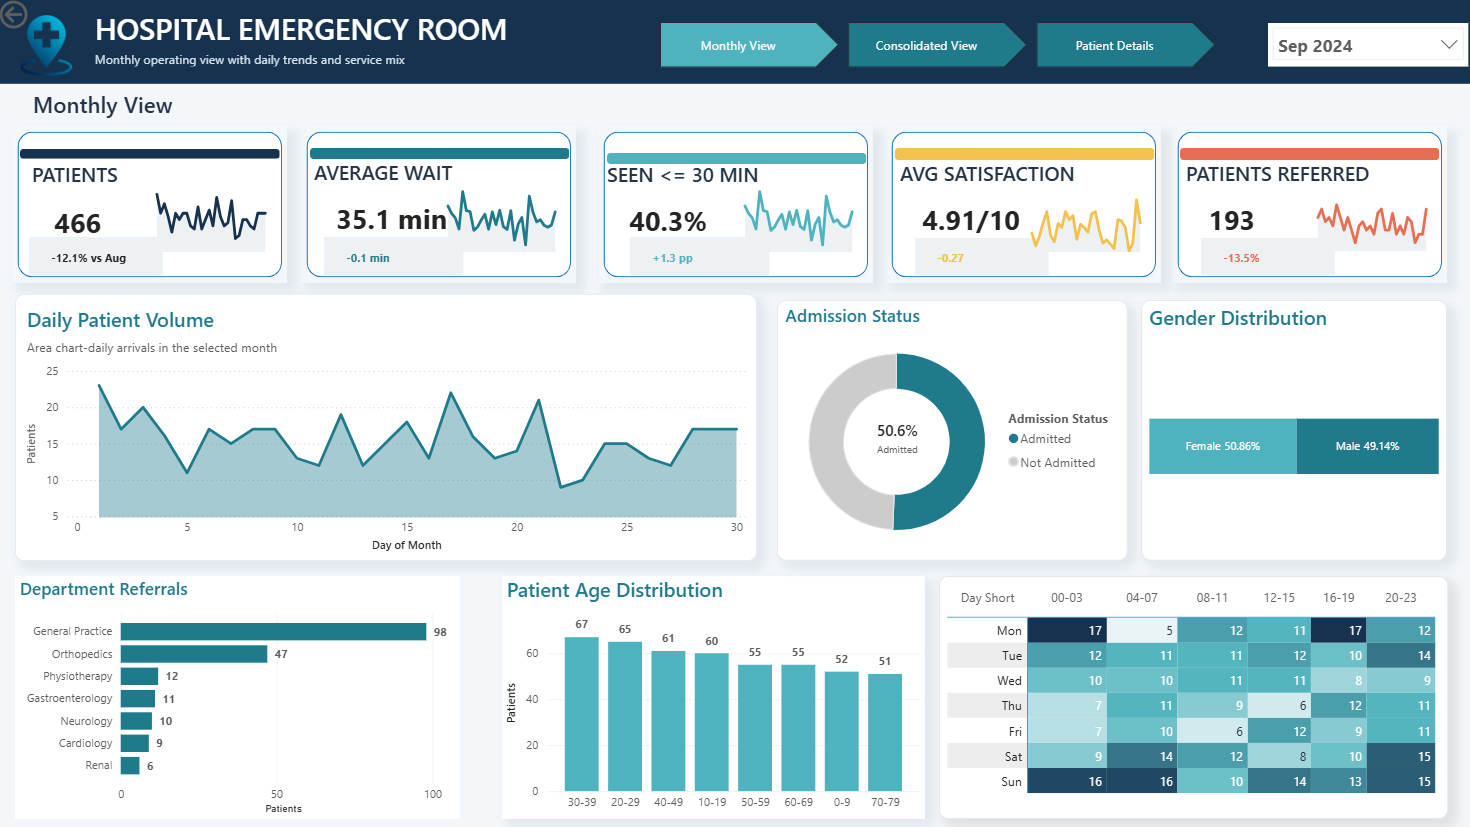

This screenshot's page, from the dashboard's own definition file:
{"tool":"powerbi","page":{"name":"Monthly View","canvas":[1600,900],"ordinal":0},"visuals":[{"type":"shape","box":[0,0,1600,94.8],"z":0},{"type":"shape","box":[18.3,140,297.2,169.2],"z":0,"group":"g1"},{"type":"shape","box":[329.8,140,297.2,169.2],"z":0,"group":"g2"},{"type":"shape","box":[650.4,140,297.2,169.2],"z":0,"group":"g3"},{"type":"shape","box":[960.3,140,297.2,169.2],"z":0,"group":"g4"},{"type":"donutChart","title":"Admission Status","fields":{"Category":["ER Visits.Admission Status"],"Y":["ER Visits.Total Patients"]},"box":[843.5,327.6,378.3,280.8],"z":0,"group":"g5"},{"type":"image","box":[20.7,20.7,70.5,65.7],"z":1000},{"type":"cardVisual","title":"AVERAGE WAIT","fields":{"Data":["ER Visits.Average Wait Time (Min)"]},"box":[343.9,175.2,180.9,91.6],"z":1000,"group":"g2"},{"type":"cardVisual","title":"AVG SATISFACTION","fields":{"Data":["ER Visits.Average Satisfaction Score"]},"box":[975.6,176.4,217.3,92.8],"z":1000,"group":"g4"},{"type":"cardVisual","title":"PATIENTS","fields":{"Data":["ER Visits.Total Patients"]},"box":[39.4,177.6,126.9,95.2],"z":1000,"group":"g1"},{"type":"cardVisual","title":"SEEN <= 30 MIN","fields":{"Data":["ER Visits.Patients Within 30 Min %"]},"box":[659.8,177.6,196.2,89.3],"z":1000,"group":"g3"},{"type":"cardVisual","fields":{"Data":["ER Visits.Admission Rate"]},"box":[922.2,425.1,122.2,104.6],"z":1000,"group":"g5"},{"type":"textbox","box":[102.1,7.3,500.9,59.6],"z":2000},{"type":"cardVisual","fields":{"Data":["ER Visits.M20 Patients MoM Label"]},"box":[37.1,259.8,144.5,41.1],"z":2000,"group":"g1"},{"type":"cardVisual","fields":{"Data":["ER Visits.Average Wait MoM Change"]},"box":[354.5,259.8,150.4,41.1],"z":2000,"group":"g2"},{"type":"cardVisual","fields":{"Data":["ER Visits.Timely MoM Change (pp)"]},"box":[684.5,259.8,150.4,41.1],"z":2000,"group":"g3"},{"type":"cardVisual","fields":{"Data":["ER Visits.Satisfaction MoM Change"]},"box":[992,261,144.5,39.9],"z":2000,"group":"g4"},{"type":"textbox","box":[102.1,53.5,500.9,26.7],"z":3000},{"type":"lineChart","fields":{"Category":["Date.Date.Variation.Date Hierarchy.Year"],"Y":["ER Visits.Total Patients"]},"box":[159.3,192.9,146.8,88.1],"z":3000,"group":"g1"},{"type":"lineChart","fields":{"Category":["Date.Date.Variation.Date Hierarchy.Year"],"Y":["ER Visits.Average Wait Time (Min)"]},"box":[473.1,192.9,145.7,88.1],"z":3000,"group":"g2"},{"type":"lineChart","fields":{"Category":["Date.Date.Variation.Date Hierarchy.Year"],"Y":["ER Visits.Average Wait Time (Min)"]},"box":[793.7,192.9,145.7,88.1],"z":3000,"group":"g3"},{"type":"lineChart","fields":{"Category":["Date.Date.Variation.Date Hierarchy.Year"],"Y":["ER Visits.Average Satisfaction Score"]},"box":[1102.4,192.9,146.8,88.1],"z":3000,"group":"g4"},{"type":"slicer","fields":{"Values":["Date.Month and Year"]},"box":[1372.1,28.9,215.8,47],"z":4000},{"type":"shape","box":[339.2,163.5,279.6,11.7],"z":4000,"group":"g2"},{"type":"shape","box":[969.7,163.5,279.6,12.9],"z":4000,"group":"g4"},{"type":"shape","box":[26.5,164.7,280,10.6],"z":4000,"group":"g1"},{"type":"shape","box":[659.8,169.4,279.6,11.7],"z":4000,"group":"g3"},{"type":"textbox","box":[35.2,95.2,249,48.2],"z":5000},{"type":"shape","box":[1268.7,140,297.2,169.2],"z":6000},{"type":"cardVisual","title":"PATIENTS REFERRED","fields":{"Data":["ER Visits.Referred Patients"]},"box":[1284,176.5,217.3,92.8],"z":7000},{"type":"cardVisual","fields":{"Data":["ER Visits.Referred MoM %"]},"box":[1300.4,261,144.5,39.9],"z":8000},{"type":"lineChart","fields":{"Category":["Date.Date.Variation.Date Hierarchy.Year"],"Y":["ER Visits.Referred Patients"]},"box":[1410.8,192.9,146.8,88.1],"z":9000},{"type":"shape","box":[1278.1,163.5,279.6,12.9],"z":10000},{"type":"group","id":"g1","title":"Group 1","box":[18.3,140,297.7,169.5],"z":11000},{"type":"group","id":"g2","title":"Group 2","box":[329.8,140,297.7,169.5],"z":12000},{"type":"group","id":"g3","title":"Group 3","box":[650.4,140,297.7,169.5],"z":13000},{"type":"group","id":"g4","title":"Group 4","box":[960.3,140,297.2,169.2],"z":14000},{"type":"areaChart","title":"Daily Patient Volume","fields":{"Category":["Date.Day of Month"],"Y":["ER Visits.Total Patients"]},"box":[21.1,321.7,800,287.8],"z":15000},{"type":"actionButton","box":[0,0,100,40],"z":16000},{"type":"hundredPercentStackedBarChart","title":"Gender Distribution","fields":{"Category":["ER Visits.Distribution Axis"],"Series":["ER Visits.Gender Label"],"Y":["ER Visits.Total Patients"]},"box":[1235.8,327.8,330.1,280.8],"z":17000},{"type":"clusteredBarChart","title":"Department Referrals","fields":{"Y":["ER Visits.Referred Patients"],"Category":["ER Visits.Department Referral"]},"box":[21.1,625,480.5,262],"z":18000},{"type":"clusteredColumnChart","title":"Patient Age Distribution","fields":{"Category":["ER Visits.Age Band"],"Y":["ER Visits.Total Patients"]},"box":[546.3,625,455.8,262],"z":19000},{"type":"group","id":"g5","title":"Group 5","box":[843.5,327.6,378.3,280.8],"z":20000},{"type":"pivotTable","fields":{"Rows":["Date.Day Short"],"Columns":["ER Visits.Time Band"],"Values":["ER Visits.Total Patients"]},"box":[1017.3,625,548.6,262],"z":21000},{"type":"pageNavigator","box":[717.4,27.7,600.5,49.4],"z":22000}]}

Visuals, with their boxes in screenshot pixels (x1, y1, x2, y2), scaled from the page's 1600x900 canvas onto the 1470x827 screenshot:
shape: (0, 0, 1469, 87)
shape: (17, 129, 290, 284)
shape: (303, 129, 576, 284)
shape: (598, 129, 871, 284)
shape: (882, 129, 1155, 284)
"Admission Status" donutChart: (775, 301, 1123, 559)
image: (19, 19, 84, 79)
"AVERAGE WAIT" cardVisual: (316, 161, 482, 245)
"AVG SATISFACTION" cardVisual: (896, 162, 1096, 247)
"PATIENTS" cardVisual: (36, 163, 153, 251)
"SEEN <= 30 MIN" cardVisual: (606, 163, 786, 245)
cardVisual - ER Visits.Admission Rate: (847, 391, 960, 487)
textbox: (94, 7, 554, 61)
cardVisual - ER Visits.M20 Patients MoM Label: (34, 239, 167, 276)
cardVisual - ER Visits.Average Wait MoM Change: (326, 239, 464, 276)
cardVisual - ER Visits.Timely MoM Change (pp): (629, 239, 767, 276)
cardVisual - ER Visits.Satisfaction MoM Change: (911, 240, 1044, 276)
textbox: (94, 49, 554, 74)
lineChart - Date.Date.Variation.Date Hierarchy.Year x ER Visits.Total Patients: (146, 177, 281, 258)
lineChart - Date.Date.Variation.Date Hierarchy.Year x ER Visits.Average Wait Time (Min): (435, 177, 569, 258)
lineChart - Date.Date.Variation.Date Hierarchy.Year x ER Visits.Average Wait Time (Min): (729, 177, 863, 258)
lineChart - Date.Date.Variation.Date Hierarchy.Year x ER Visits.Average Satisfaction Score: (1013, 177, 1148, 258)
slicer - Date.Month and Year: (1261, 27, 1459, 70)
shape: (312, 150, 569, 161)
shape: (891, 150, 1148, 162)
shape: (24, 151, 282, 161)
shape: (606, 156, 863, 166)
textbox: (32, 87, 261, 132)
shape: (1166, 129, 1439, 284)
"PATIENTS REFERRED" cardVisual: (1180, 162, 1379, 247)
cardVisual - ER Visits.Referred MoM %: (1195, 240, 1328, 276)
lineChart - Date.Date.Variation.Date Hierarchy.Year x ER Visits.Referred Patients: (1296, 177, 1431, 258)
shape: (1174, 150, 1431, 162)
"Group 1" group: (17, 129, 290, 284)
"Group 2" group: (303, 129, 577, 284)
"Group 3" group: (598, 129, 871, 284)
"Group 4" group: (882, 129, 1155, 284)
"Daily Patient Volume" areaChart: (19, 296, 754, 560)
actionButton: (0, 0, 92, 37)
"Gender Distribution" hundredPercentStackedBarChart: (1135, 301, 1439, 559)
"Department Referrals" clusteredBarChart: (19, 574, 461, 815)
"Patient Age Distribution" clusteredColumnChart: (502, 574, 921, 815)
"Group 5" group: (775, 301, 1123, 559)
pivotTable - Date.Day Short x ER Visits.Time Band: (935, 574, 1439, 815)
pageNavigator: (659, 25, 1211, 71)
